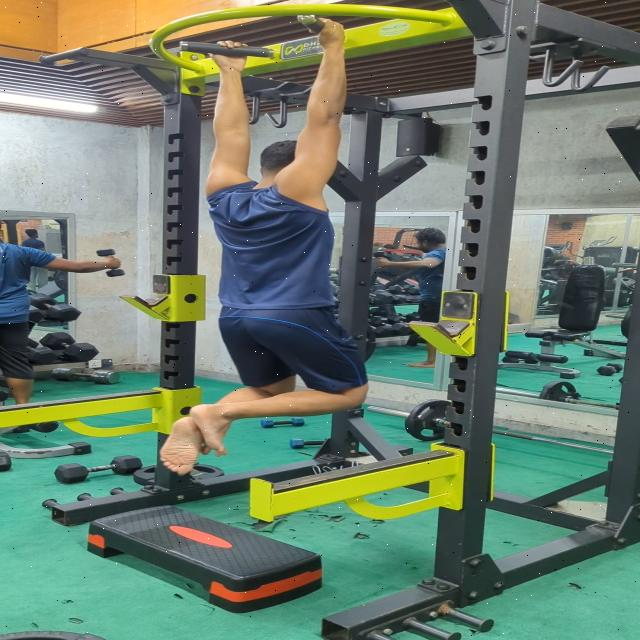Normal_PullUps: (147, 16, 387, 477)
